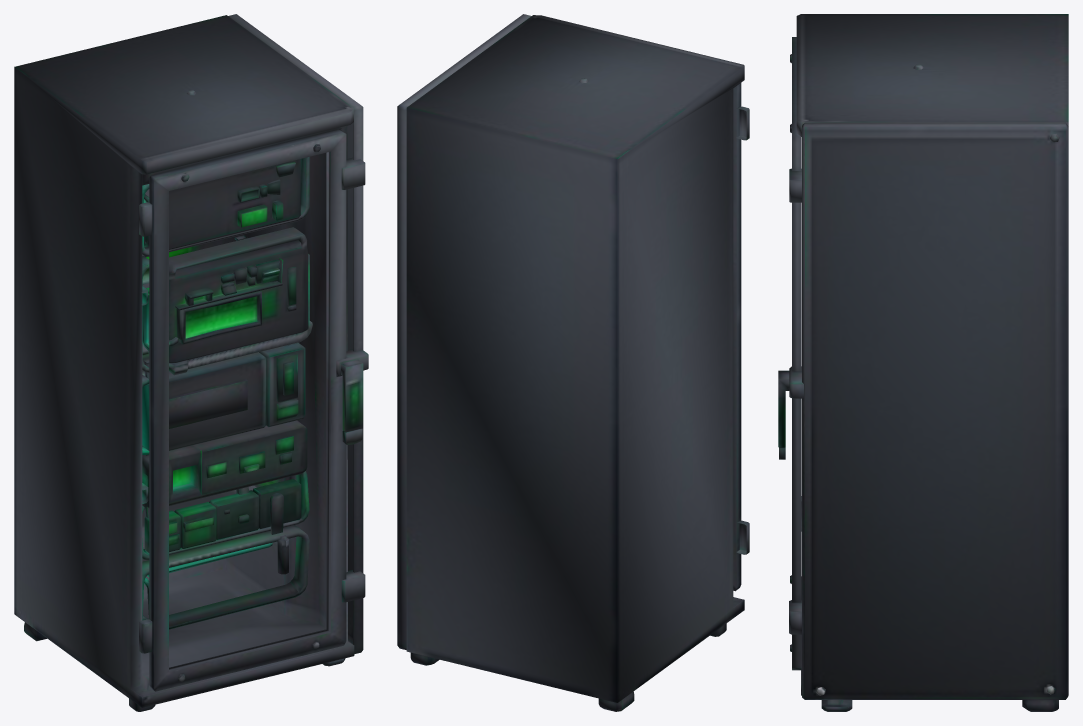
Rendered from Bank_ServerRack.glb.
The picture shows the model from 3 angles, left to right: view 1: azimuth 30°, elevation 25°; view 2: azimuth 150°, elevation 25°; view 3: azimuth 270°, elevation 25°; orthographic projection. The views are drawn at different scales.
Visible parts, largest first — view 1: tripo_node_e0662e40-9f92-4a3f-8962-f9ab6d2dbb49; view 2: tripo_node_e0662e40-9f92-4a3f-8962-f9ab6d2dbb49; view 3: tripo_node_e0662e40-9f92-4a3f-8962-f9ab6d2dbb49.
Boxes of the visible parts, x1,y1,x2,y2 form: tripo_node_e0662e40-9f92-4a3f-8962-f9ab6d2dbb49: (14,14,368,711); tripo_node_e0662e40-9f92-4a3f-8962-f9ab6d2dbb49: (397,14,749,711); tripo_node_e0662e40-9f92-4a3f-8962-f9ab6d2dbb49: (778,14,1068,711).
Bounding box in the file's own units: 0.4226 × 1 × 0.445.
1 material, 1 textured.
